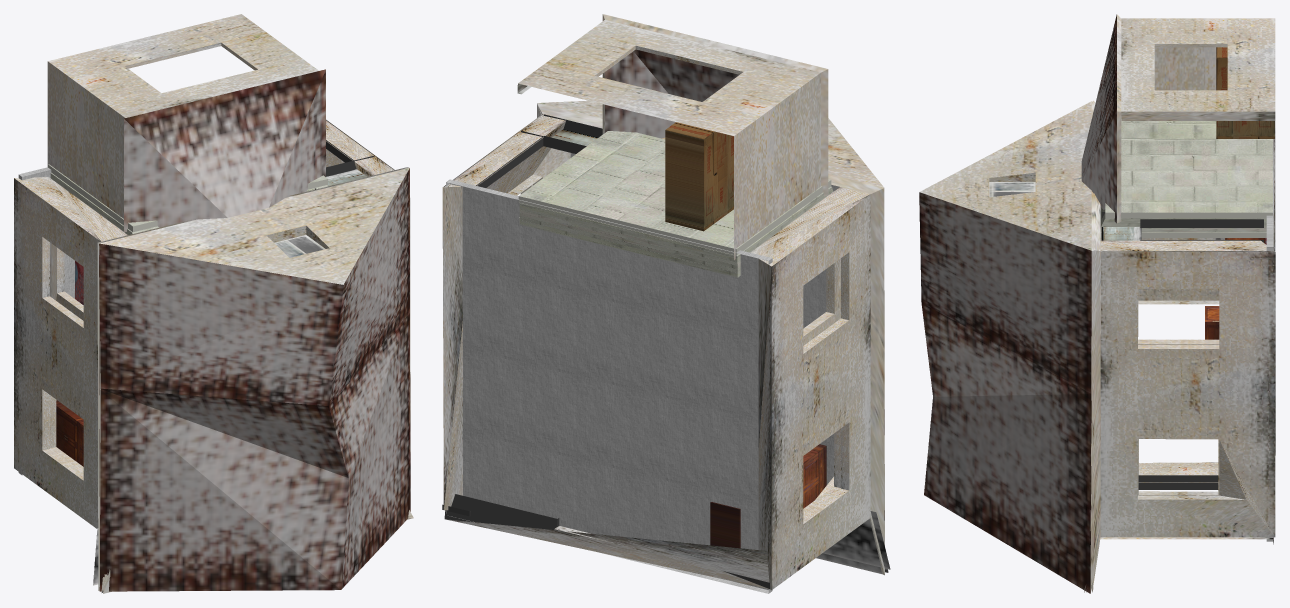
The model's file is domicileinterioropen_wtf.obj.
3 views of the same model, side by side, from view 1: azimuth 30°, elevation 25°; view 2: azimuth 150°, elevation 25°; view 3: azimuth 270°, elevation 25° (orthographic). The views are drawn at different scales.
Parts seen in each view (by area): view 1: group10, group26, group13, group15, group16, group19; view 2: group26, group16, group15, group6, group19, group10, group13, group18, group17, group22, group24; view 3: group26, group10, group15, group6, group24, group21, group19, group22, group23, group7, group25.
Part boxes in pixels (x1,y1,x2,y2): group10: (99,167,413,593); group26: (14,14,408,592); group13: (56,400,83,466); group15: (48,164,328,232); group16: (18,167,74,475); group19: (50,172,327,234); group26: (442,14,887,590); group16: (446,179,772,593); group15: (518,131,831,255); group6: (665,122,733,231); group19: (519,186,833,277); group10: (537,100,888,573); group13: (710,444,826,548); group18: (823,511,890,569); group17: (570,153,839,484); group22: (521,114,602,153); group24: (476,136,586,187); group26: (1081,14,1275,592); group10: (919,101,1093,593); group15: (1100,119,1272,237); group6: (1216,47,1274,138); group24: (1140,219,1263,242); group21: (1138,439,1218,482); group19: (1100,207,1266,231); group22: (1101,212,1141,240); group23: (1099,537,1273,539); group7: (1205,306,1219,339); group25: (1138,484,1218,489).
Size of the model in its own units: 482 by 660 by 476.
